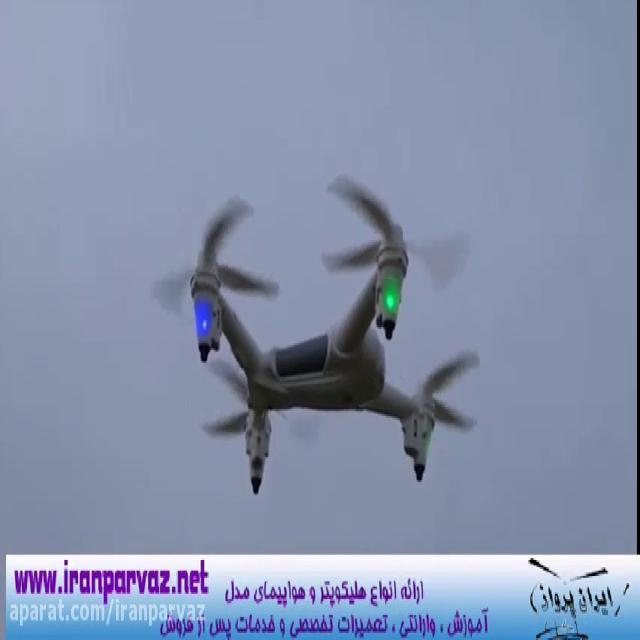drone: (144, 166, 485, 500)
